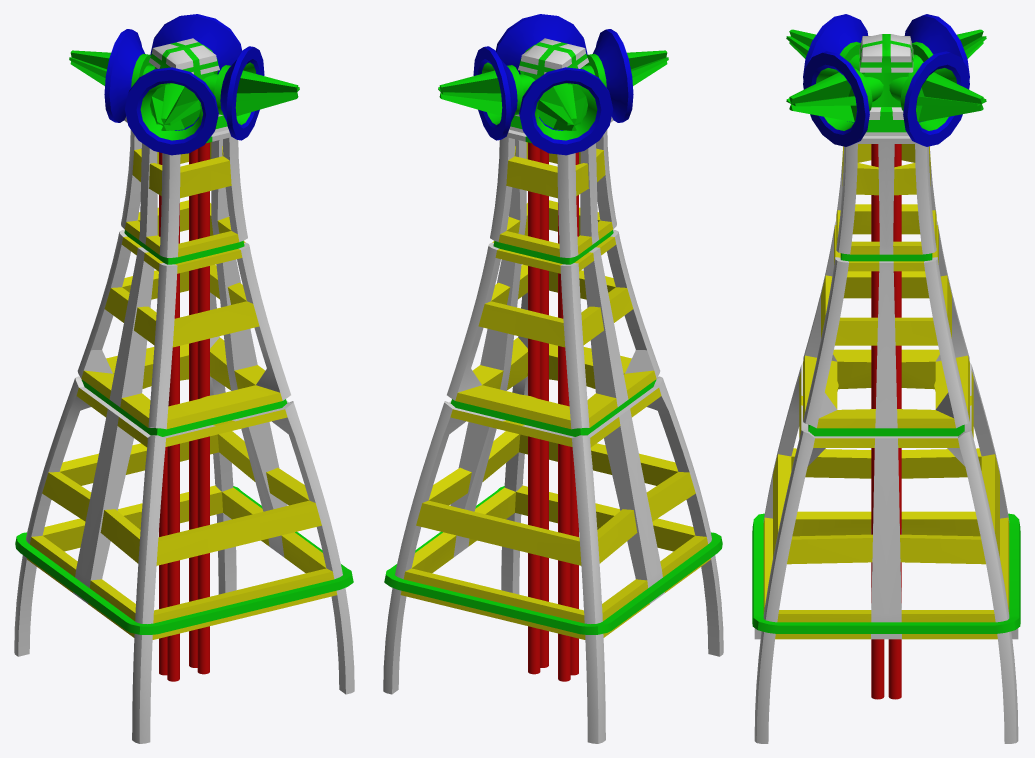
File: Anthena.fbx
The picture shows the model from 3 angles, left to right: view 1: azimuth 30°, elevation 25°; view 2: azimuth 150°, elevation 25°; view 3: azimuth 270°, elevation 25°; orthographic projection. The views are drawn at different scales.
Visible parts, largest first — view 1: Cube; view 2: Cube; view 3: Cube.
Part boxes in pixels (x1=…): Cube: x1=14, y1=14, x2=354, y2=743; Cube: x1=383, y1=14, x2=723, y2=743; Cube: x1=752, y1=14, x2=1020, y2=743.
Size of the model in its own units: 615 by 610 by 1652.
